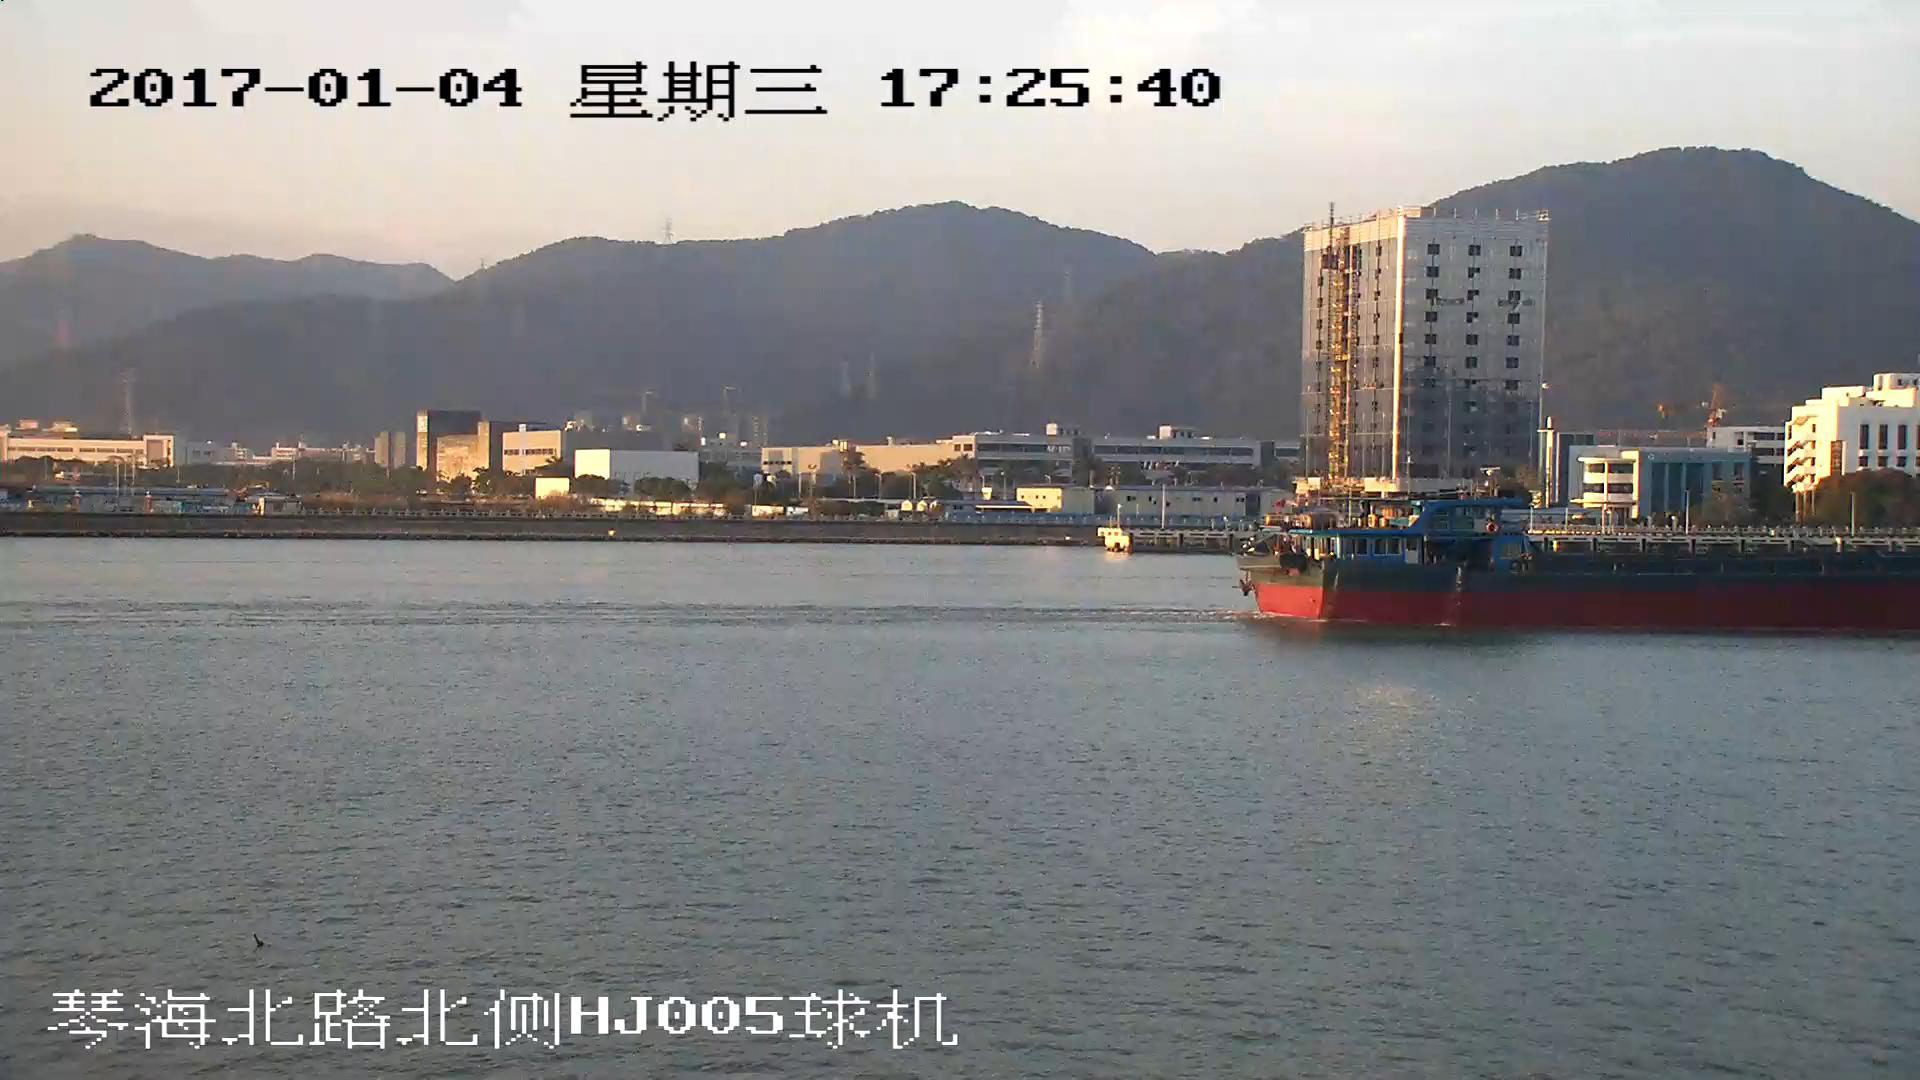Ship: (1247, 498, 1920, 638)
